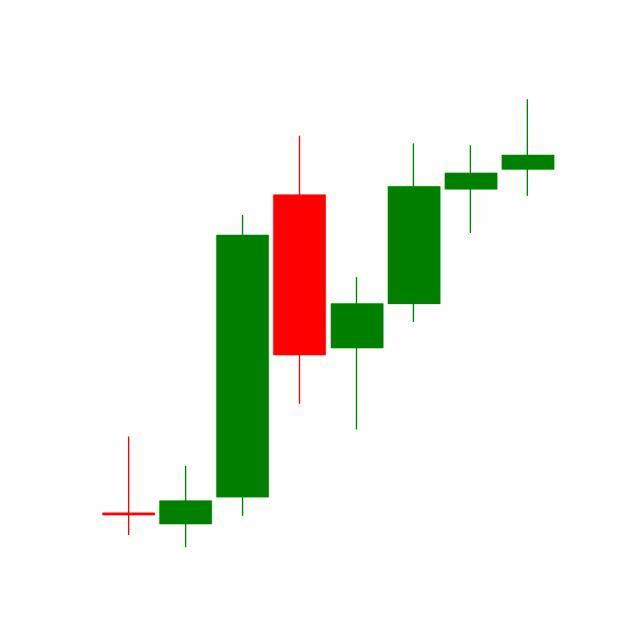Hikkake Pattern: (270, 99, 555, 435)
